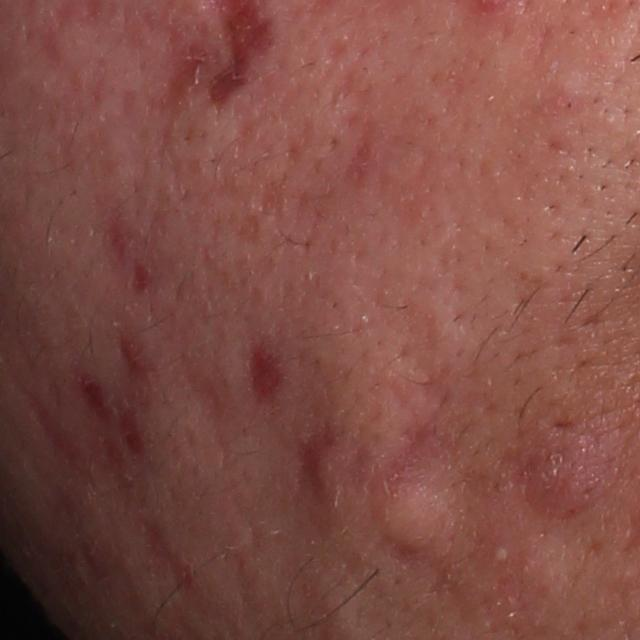atrophic_scar: (138, 514, 194, 589), (111, 313, 149, 389), (251, 337, 286, 408), (72, 364, 113, 420), (120, 391, 149, 468), (129, 259, 150, 293)
hypertrophic_scar: (282, 215, 472, 488), (369, 478, 454, 562), (150, 19, 212, 123)
papule: (524, 442, 595, 521), (295, 443, 339, 504)
